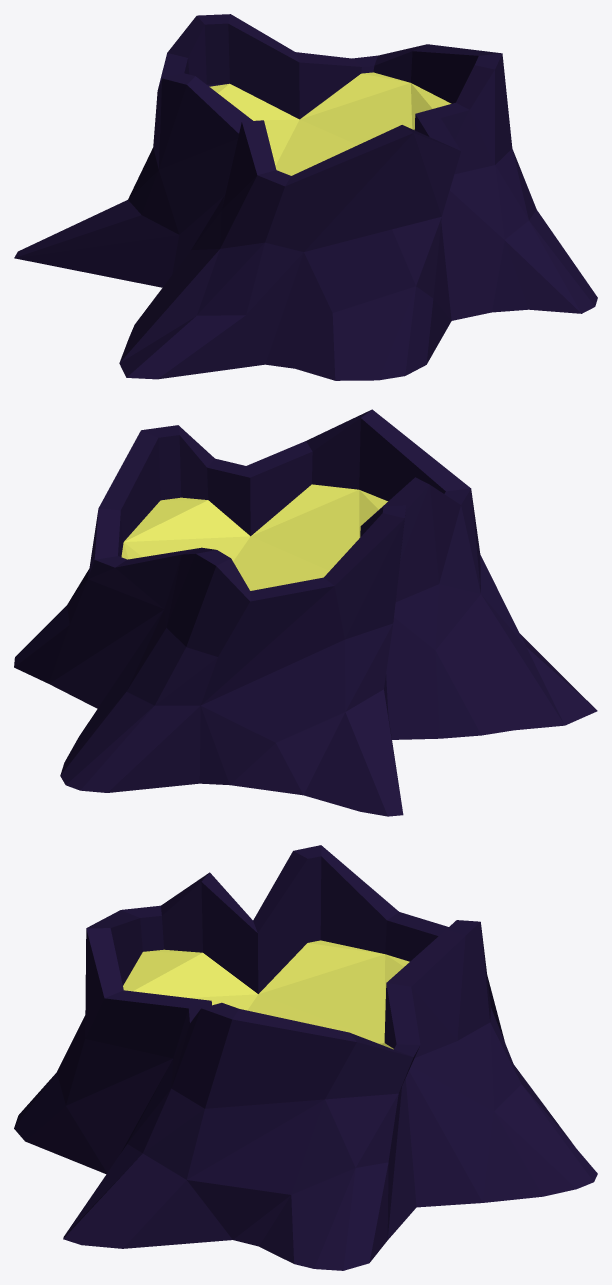
Rendered from cut_tree 1.fbx.
3 renders of one model, top to bottom at view 1: azimuth 30°, elevation 25°; view 2: azimuth 150°, elevation 25°; view 3: azimuth 270°, elevation 25°, orthographic. The views are drawn at different scales.
Parts seen in each view (by area): view 1: BezierCircle.001; view 2: BezierCircle.001; view 3: BezierCircle.001.
Boxes of the visible parts, bbox=[...] form: BezierCircle.001: bbox=[14, 14, 597, 380]; BezierCircle.001: bbox=[14, 409, 597, 816]; BezierCircle.001: bbox=[14, 845, 597, 1270].
Size of the model in its own units: 1017 by 445 by 999.
